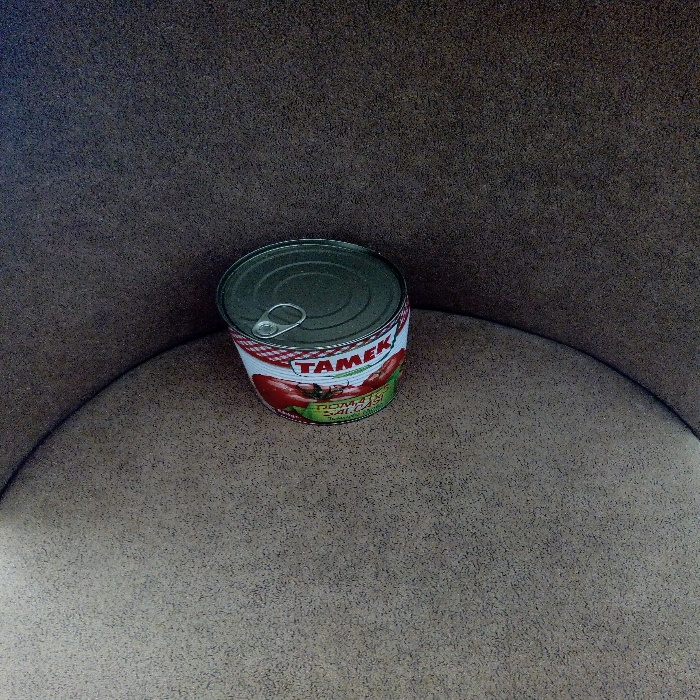salca: (202, 203, 423, 431)
